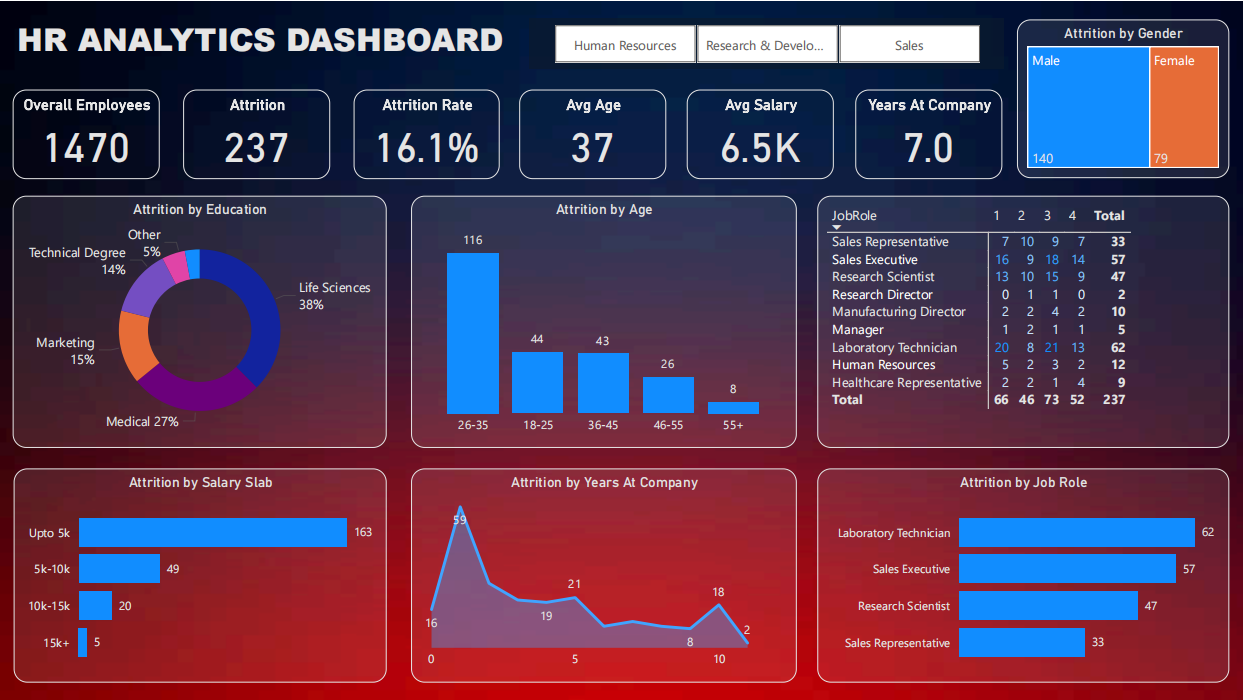

The dashboard page shown, as its layout file describes it:
{"tool":"powerbi","page":{"name":"Page 1","canvas":[1280,720],"ordinal":0},"visuals":[{"type":"card","title":"Overall Employees","fields":{"Values":["CountNonNull(HR_Analytics (2).EmpID)"]},"box":[15.5,90.1,150.7,91.5],"z":0},{"type":"card","title":"Attrition","fields":{"Values":["Sum(HR_Analytics.AttritionCount)"]},"box":[190.1,90.1,150.7,91.5],"z":1000},{"type":"card","title":"Attrition Rate","fields":{"Values":["HR_Analytics.AttritionRate"]},"box":[364.8,90.1,150.7,91.5],"z":2000},{"type":"card","title":"Avg Age","fields":{"Values":["Avg(HR_Analytics.Age)"]},"box":[535.2,90.1,150.7,91.5],"z":3000},{"type":"card","title":"Avg Salary","fields":{"Values":["Avg(HR_Analytics.MonthlyIncome)"]},"box":[707,90.1,150.7,91.5],"z":4000},{"type":"card","title":"Years At Company","fields":{"Values":["Avg(HR_Analytics.YearsAtCompany)"]},"box":[880.3,90.1,150.7,91.5],"z":5000},{"type":"donutChart","title":"Attrition by Education","fields":{"Category":["HR_Analytics.EducationField"],"Y":["Sum(HR_Analytics.AttritionCount)"]},"box":[15,198.8,383.8,258.8],"z":6000},{"type":"columnChart","title":"Attrition by Age","fields":{"Category":["HR_Analytics.AgeGroup"],"Y":["Sum(HR_Analytics.AttritionCount)"]},"box":[423.8,198.8,396.2,258.8],"z":7000},{"type":"pivotTable","fields":{"Rows":["HR_Analytics.JobRole"],"Columns":["HR_Analytics.JobSatisfaction"],"Values":["Sum(HR_Analytics.AttritionCount)"]},"box":[841.2,198.8,422.5,258.8],"z":8000},{"type":"barChart","title":"Attrition by Salary Slab","fields":{"Category":["HR_Analytics.SalarySlab"],"Y":["Sum(HR_Analytics.AttritionCount)"]},"box":[16.2,478.8,382.5,220],"z":9000},{"type":"barChart","title":"Attrition by Job Role","fields":{"Category":["HR_Analytics.JobRole"],"Y":["Sum(HR_Analytics.AttritionCount)"]},"box":[841.2,478.8,422.5,220],"z":10000},{"type":"areaChart","title":"Attrition by Years At Company","fields":{"Category":["HR_Analytics.YearsAtCompany"],"Y":["Sum(HR_Analytics.AttritionCount)"]},"box":[423.8,478.8,396.2,220],"z":11000},{"type":"treemap","title":"Attrition by Gender","fields":{"Group":["HR_Analytics.Gender"],"Values":["Sum(HR_Analytics.AttritionCount)"]},"box":[1046.2,17.5,217.5,163.8],"z":12000},{"type":"slicer","fields":{"Values":["HR_Analytics.Department"]},"box":[546.5,16.9,485.9,52.1],"z":13000},{"type":"textbox","box":[15.5,9.9,532.4,63.4],"z":14000}]}

Visuals, with their boxes in screenshot pixels (x1, y1, x2, y2), scaled from the page's 1280x720 canvas onto the 1243x700 screenshot:
"Overall Employees" card: 15, 88, 161, 177
"Attrition" card: 185, 88, 331, 177
"Attrition Rate" card: 354, 88, 501, 177
"Avg Age" card: 520, 88, 666, 177
"Avg Salary" card: 687, 88, 833, 177
"Years At Company" card: 855, 88, 1001, 177
"Attrition by Education" donutChart: 15, 193, 387, 445
"Attrition by Age" columnChart: 412, 193, 796, 445
pivotTable - HR_Analytics.JobRole x HR_Analytics.JobSatisfaction: 817, 193, 1227, 445
"Attrition by Salary Slab" barChart: 16, 466, 387, 679
"Attrition by Job Role" barChart: 817, 466, 1227, 679
"Attrition by Years At Company" areaChart: 412, 466, 796, 679
"Attrition by Gender" treemap: 1016, 17, 1227, 176
slicer - HR_Analytics.Department: 531, 16, 1003, 67
textbox: 15, 10, 532, 71
